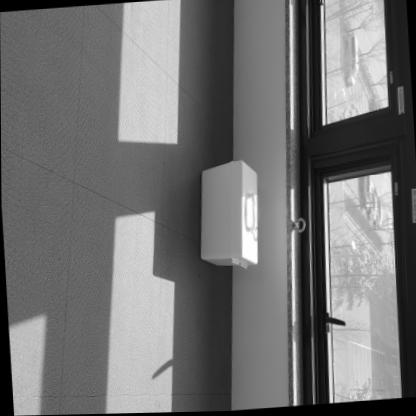DDL: (193, 157, 262, 273)
